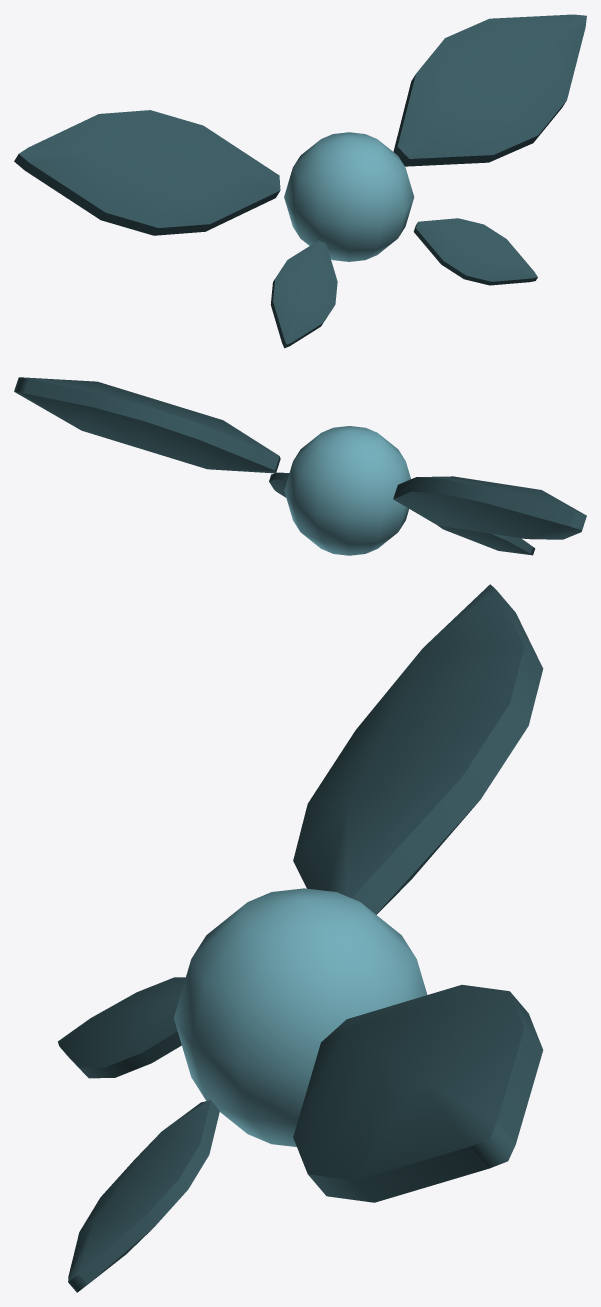
File: Water_Fae.fbx
3 renders of one model, top to bottom at view 1: azimuth 30°, elevation 25°; view 2: azimuth 150°, elevation 25°; view 3: azimuth 270°, elevation 25°, orthographic. The views are drawn at different scales.
Parts seen in each view (by area): view 1: Wing001, Wing, Body, Wing002, Wing003; view 2: Body, Wing, Wing001, Wing003, Wing002; view 3: Wing001, Wing, Body, Wing002, Wing003.
Boxes of the visible parts, x1,y1,x2,y2 form: Wing001: [14, 110, 280, 235]; Wing: [393, 14, 586, 166]; Body: [284, 132, 414, 261]; Wing002: [413, 218, 537, 285]; Wing003: [270, 240, 337, 348]; Body: [284, 426, 410, 555]; Wing: [14, 377, 280, 473]; Wing001: [393, 476, 586, 539]; Wing003: [438, 525, 535, 555]; Wing002: [269, 472, 289, 497]; Wing001: [293, 584, 543, 914]; Wing: [293, 984, 543, 1202]; Body: [174, 888, 427, 1146]; Wing002: [68, 1100, 219, 1292]; Wing003: [58, 977, 185, 1078].
Size of the model in its own units: 101 by 28.48 by 37.28.
